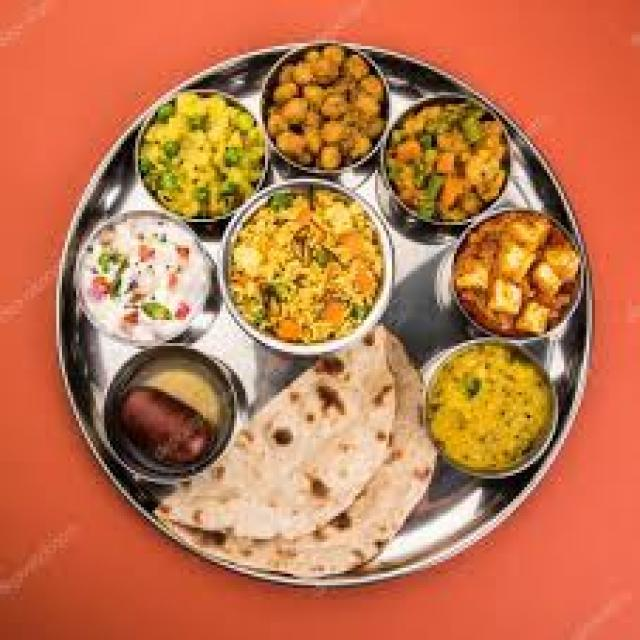dal: (428, 340, 561, 477)
rice: (222, 188, 391, 353)
roti: (205, 339, 451, 571)
sweet: (71, 216, 215, 352), (103, 353, 236, 476)
veg-fry: (127, 90, 256, 212)
